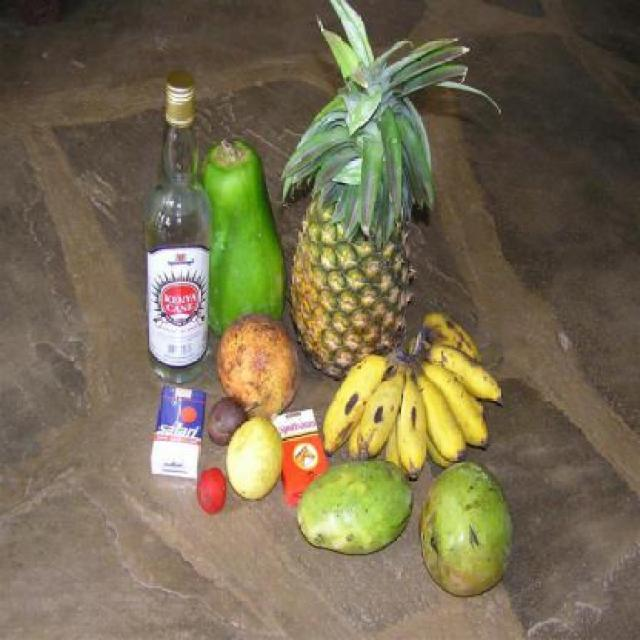Pineapple: (279, 0, 499, 378)
